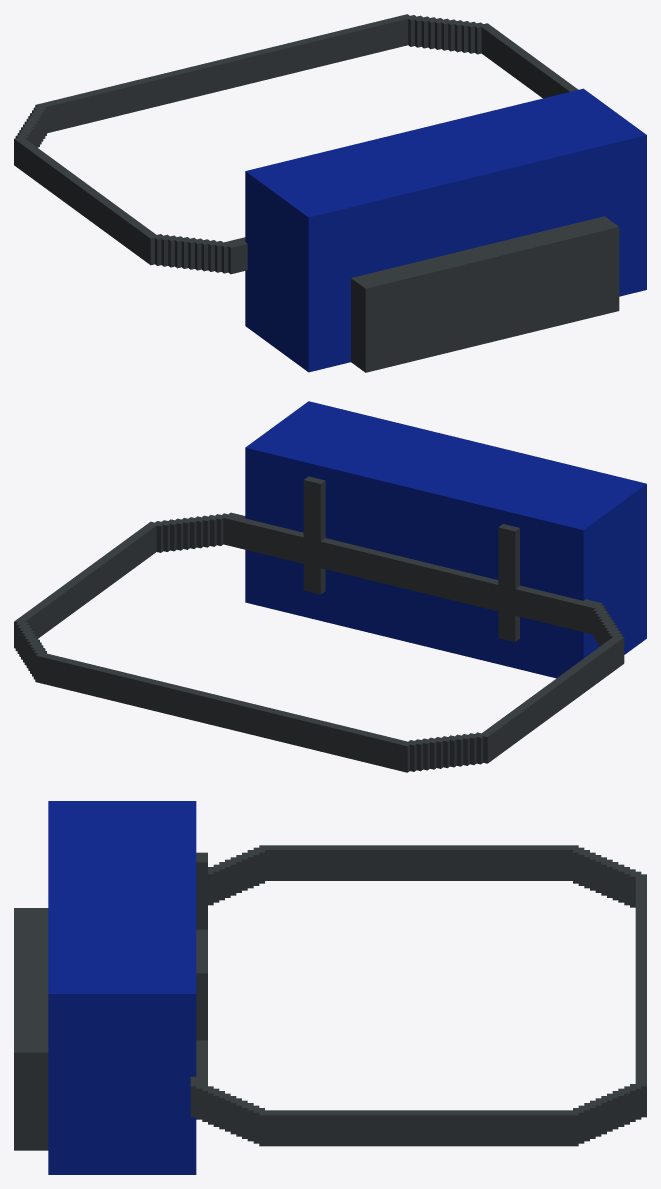
File: fanny_pack_worn_jacket.glb
The picture shows the model from 3 angles, top to bottom: view 1: azimuth 30°, elevation 25°; view 2: azimuth 150°, elevation 25°; view 3: azimuth 270°, elevation 25°; orthographic projection. The views are drawn at different scales.
Parts seen in each view (by area): view 1: bag:bag, belt:belt; view 2: bag:bag, belt:belt; view 3: bag:bag, belt:belt.
Boxes of the visible parts, x1,y1,x2,y2 form: bag:bag: (245, 88, 646, 372); belt:belt: (14, 14, 578, 274); bag:bag: (245, 401, 646, 678); belt:belt: (14, 512, 624, 772); bag:bag: (14, 801, 207, 1174); belt:belt: (190, 845, 646, 1146).
Size of the model in its own units: 0.448 by 0.14 by 0.444.
